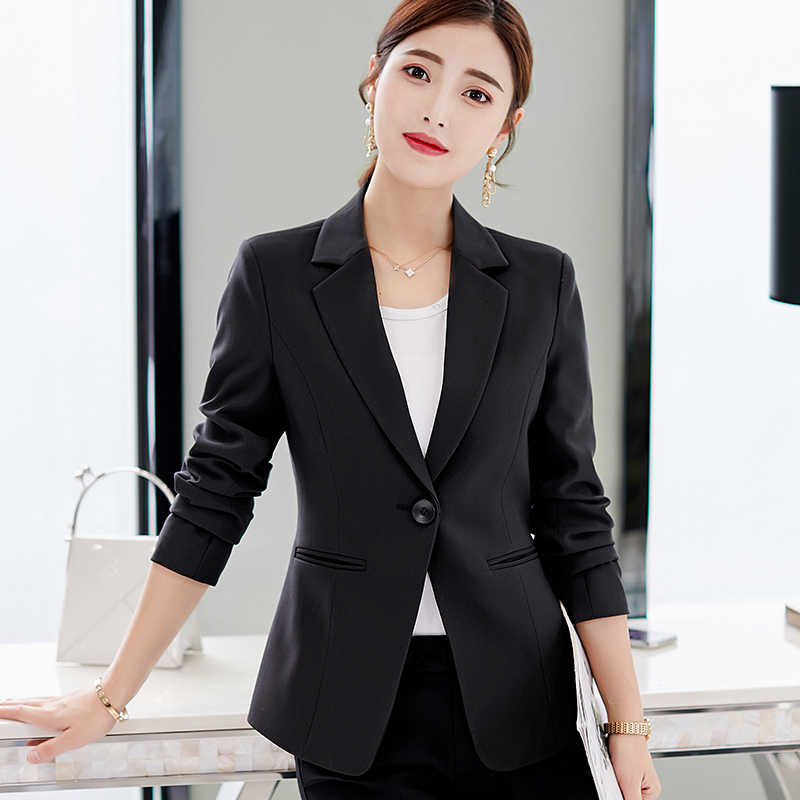F_W_suit jacket: (156, 224, 622, 738)
